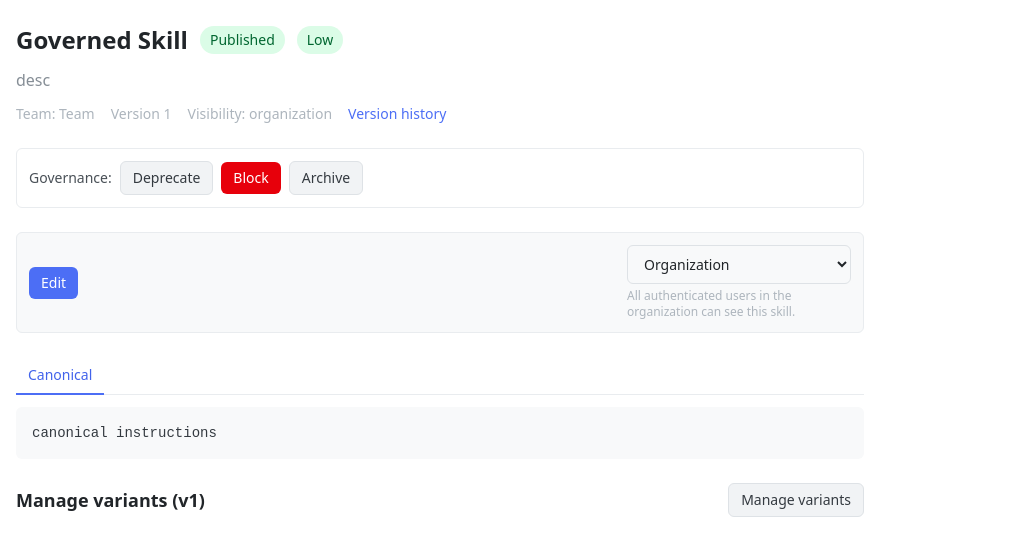
Scenario: Skill lifecycle governance controls › surfaces a 409 conflict when a transition is rejected
Click the button "Archive": point(326, 178) 289,161 -> 363,195
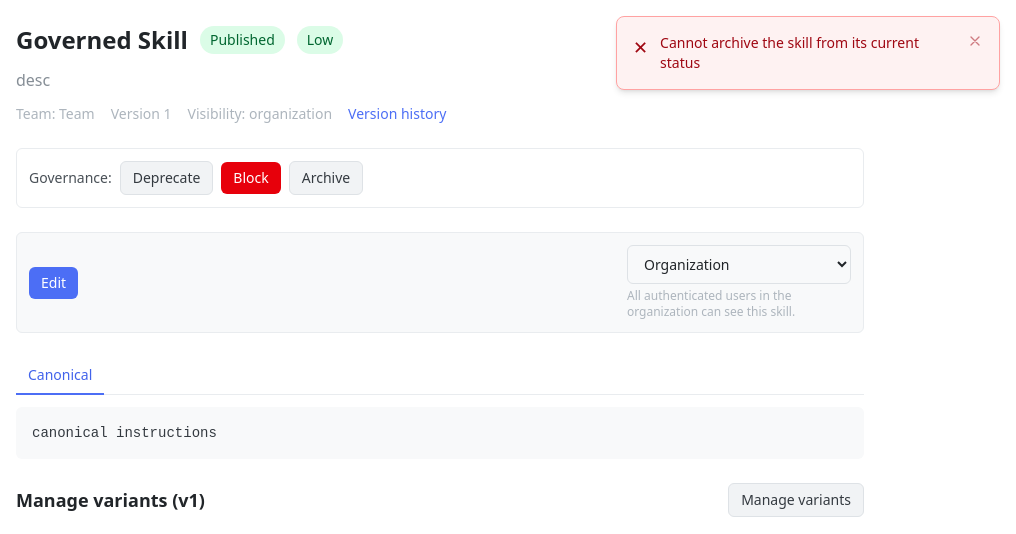
expect the text "Cannot archive the skill from its current status" is shown: met, box 660,33 -> 955,73
